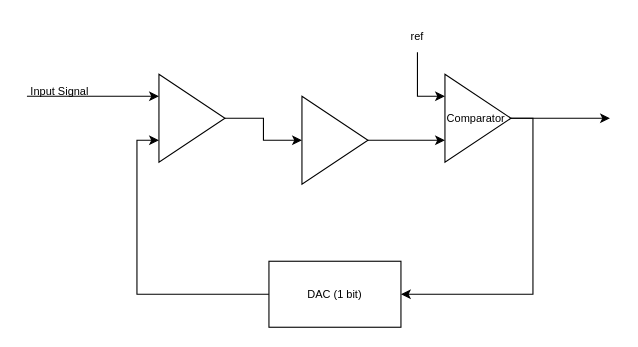
Some shapes in this 638 by 347 pixel diagram are drawn without their labels. Each missing label, with the centre of its shape:
Difference Amplifier: (x=191, y=117)
Integrator: (x=334, y=139)
